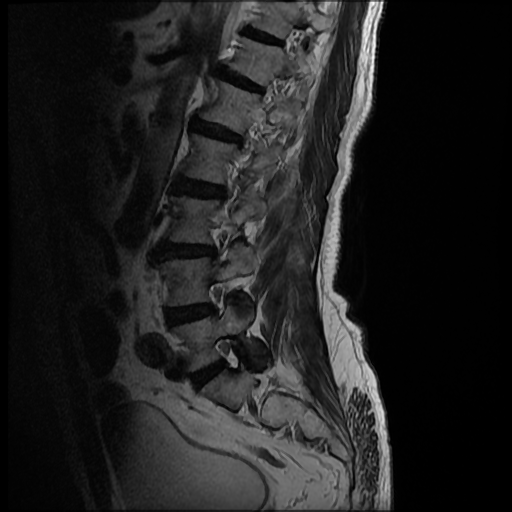LFS0: (207, 328, 248, 376)
